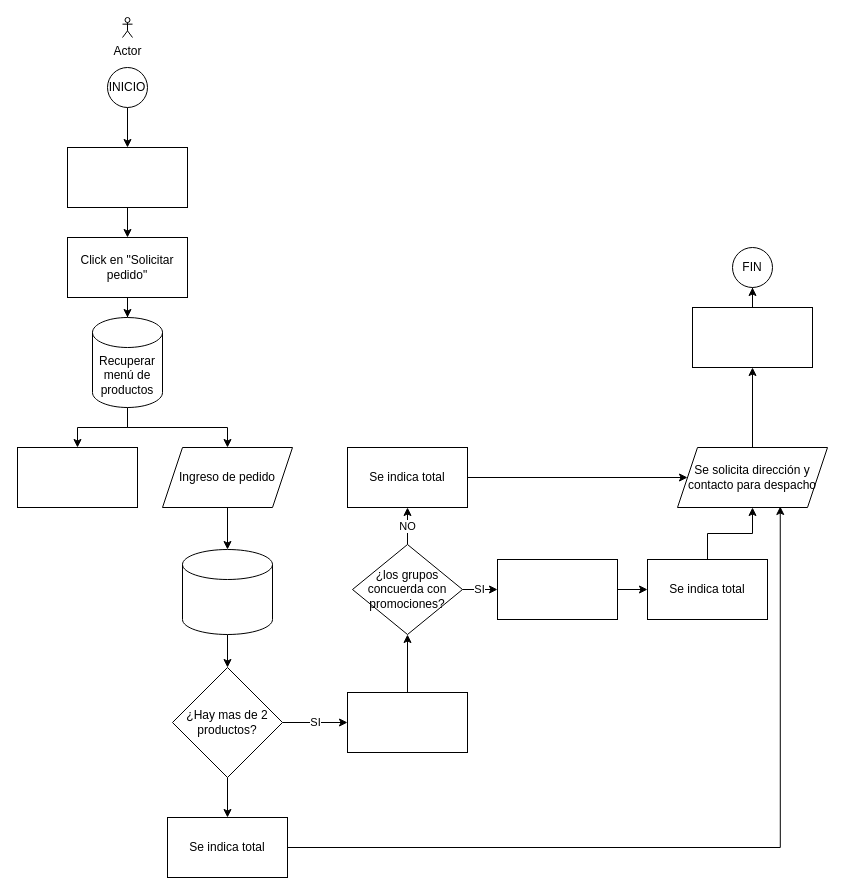
This 845x895 diagram has some shape labels left out. The box of each missing label's shape, as (x1, y1, x2, y2) in pixels:
Desglosar y agrupar pedido: (346, 692, 468, 752)
Despacho de productos: (692, 306, 812, 368)
Ingreso a página de pedidos: (66, 146, 188, 208)
Recuperar promociones: (182, 548, 272, 634)
Se aplica descuento segun grupos de promociones: (496, 558, 618, 620)
Se despliega menú de productos: (16, 446, 138, 508)
